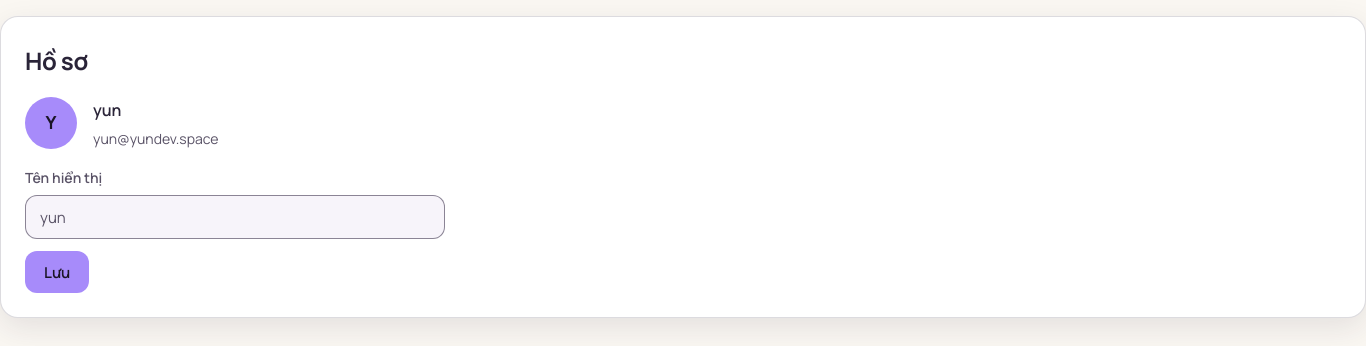
ProfilePage › retries profile save once after 401 via /api/auth/refresh (S7b)
The image size is (1366, 346).
Type "Retried Name" into the field labelled "Tên hiển thị".
click(235, 217); type("Retried Name")  # box [25,195,445,239]
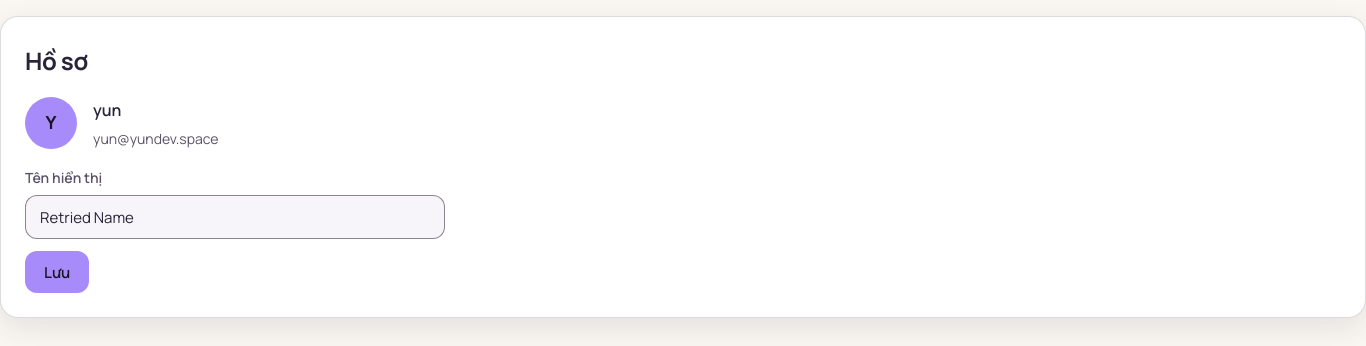
Click the button "Lưu".
click(57, 272)  # box [25,251,89,293]
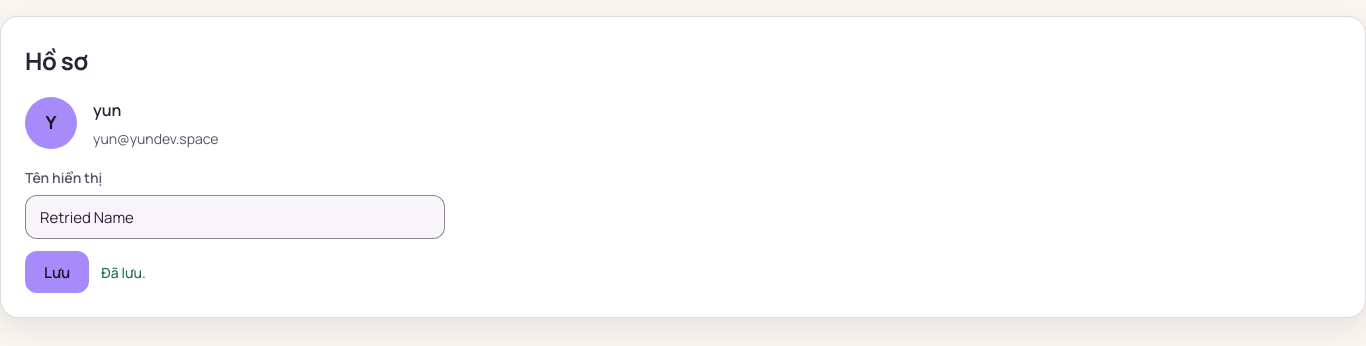
Check: the message reads "Đã lưu.", box [101,263,146,282]
